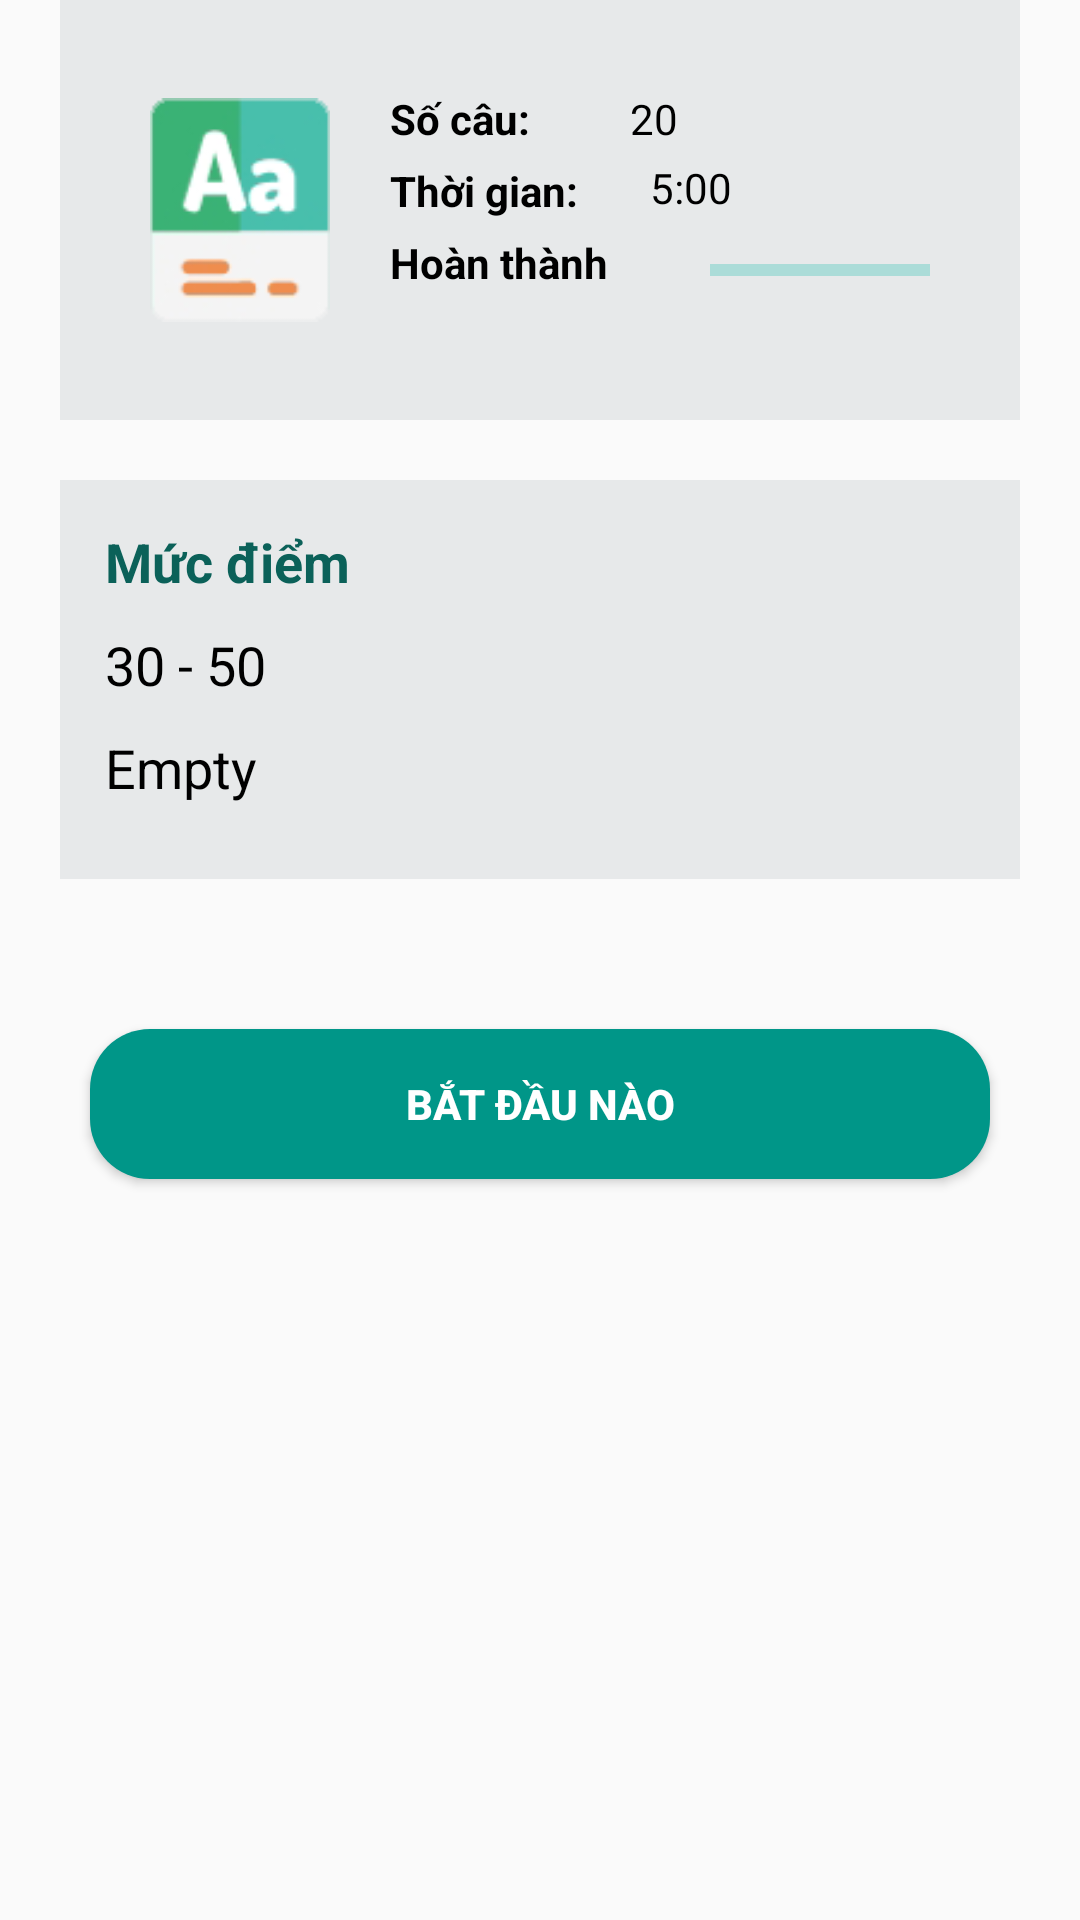

Screen size 1080*1920. Icon name, then its center in pixels as (x,y):
reading: (240,197)
